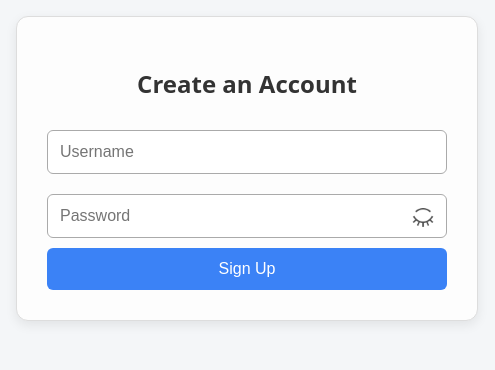
Test case: SignUpPage › shows error message when signup fails
Type "existingUser" into the field with placeholder "Username" at (247, 152), box [47, 130, 447, 174]
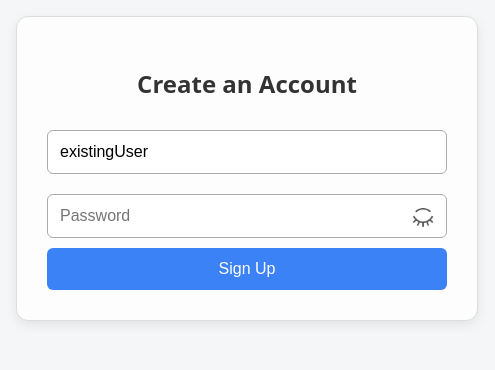
Type "password123" into the password field with placeholder "Password" at (247, 216), box [47, 194, 447, 238]
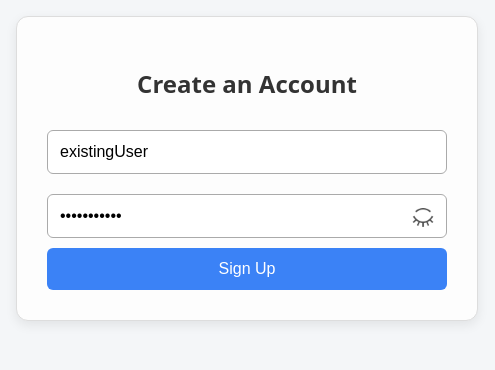
Click the button "Sign Up" at (247, 269), box [47, 248, 447, 290]
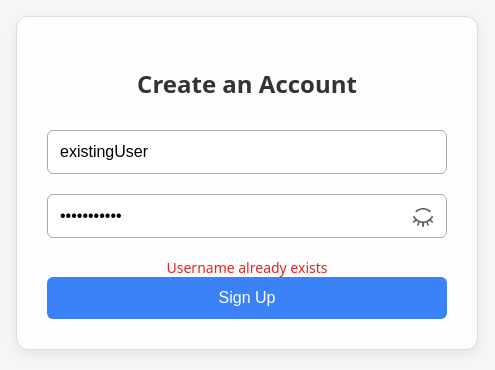
Result: the text "Username already exists" is shown at [166, 258, 328, 277]
